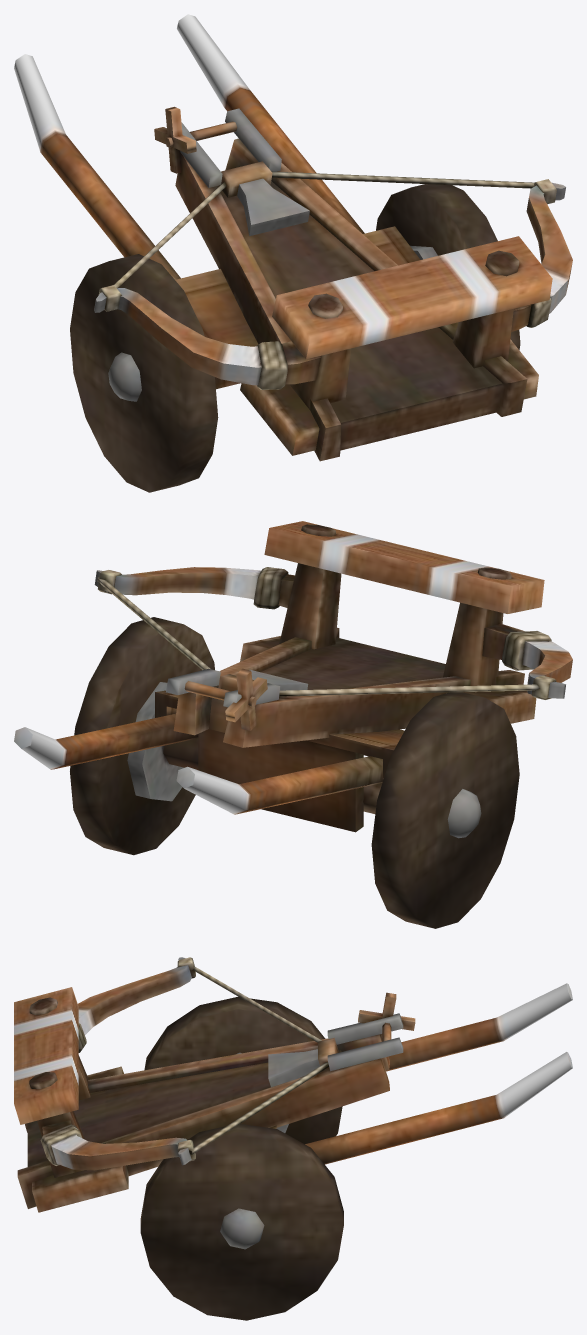
The model's file is weapon-copperweapons.glb.
3 views of the same model, one above another, from view 1: azimuth 30°, elevation 25°; view 2: azimuth 150°, elevation 25°; view 3: azimuth 270°, elevation 25° (orthographic). The views are drawn at different scales.
Size of the model in its own units: 2.13 by 1.22 by 2.56.
Materials: 1 (1 with a texture image).
